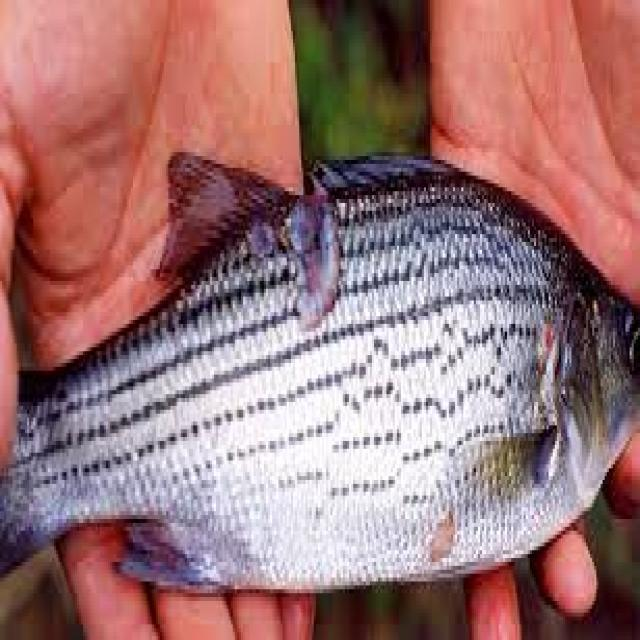EUS Disease: (0, 152, 639, 583), (248, 168, 392, 340), (380, 423, 486, 580)
